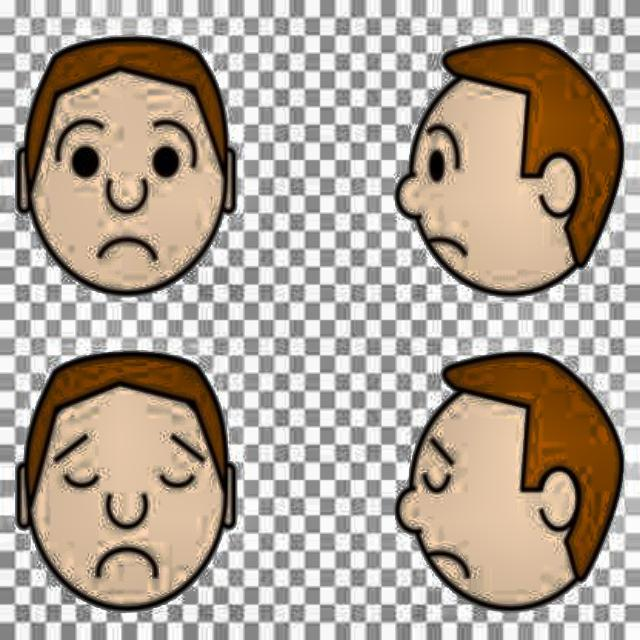sad: (390, 16, 634, 316), (1, 344, 241, 627), (387, 333, 637, 603), (8, 34, 248, 304)
